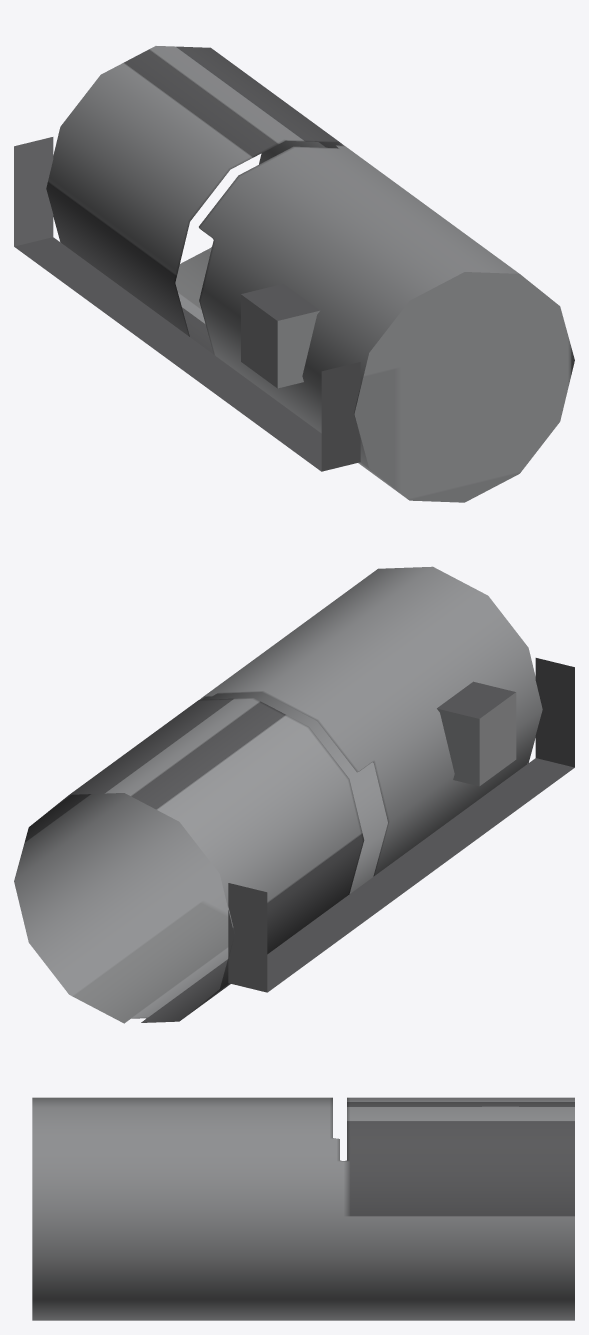
The picture shows the model from 3 angles, top to bottom: view 1: azimuth 30°, elevation 25°; view 2: azimuth 150°, elevation 25°; view 3: azimuth 270°, elevation 25°; orthographic projection. The views are drawn at different scales.
Bounding box in the file's own units: 0.29 × 0.2955 × 0.6343.
